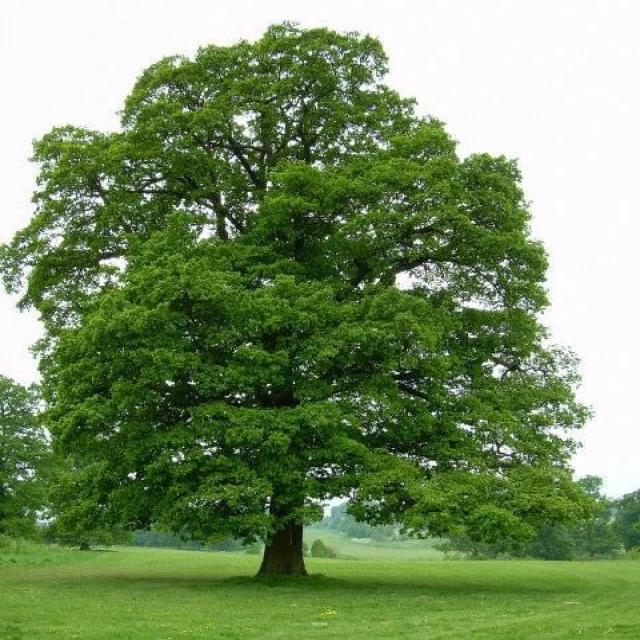roble: (24, 24, 598, 581)
